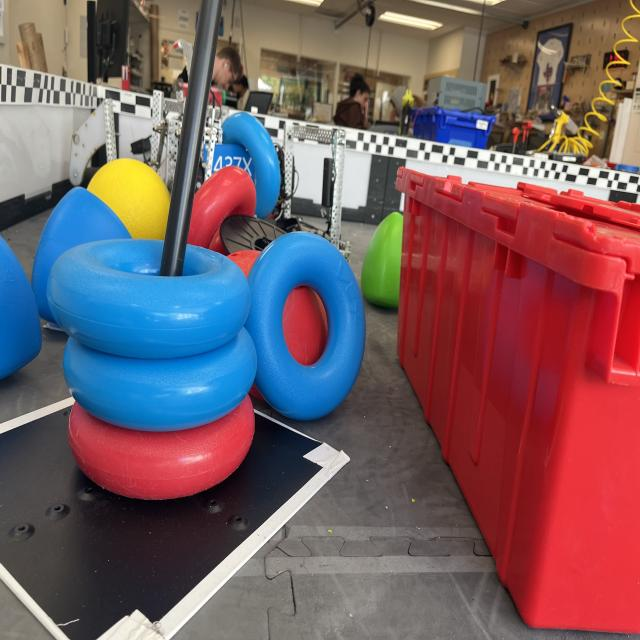Blue-Ring: (46, 238, 250, 358), (245, 232, 365, 420), (62, 328, 256, 432), (222, 112, 280, 218)
Red-Ring: (69, 395, 255, 500), (188, 165, 256, 255)
